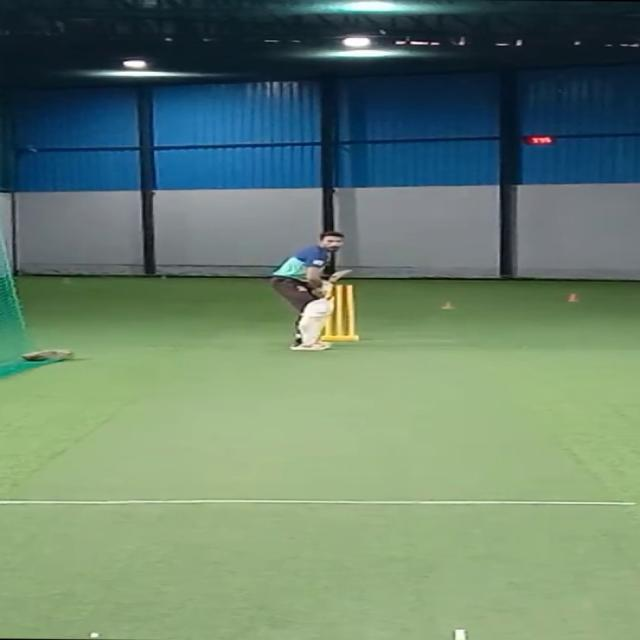stump: (332, 280, 360, 341)
